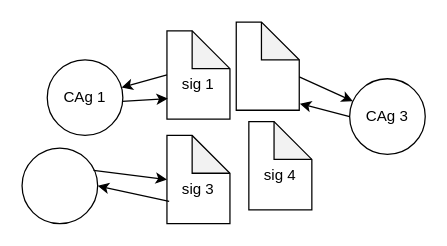
Some shapes in this 447 by 246 pixel diagram are drawn without their labels. The shapes that lost their labels are listed below. From the top down, each one's centre as x and y in pixels, then its label:
pixel 267 65: sig 2
pixel 59 185: CAg 2
